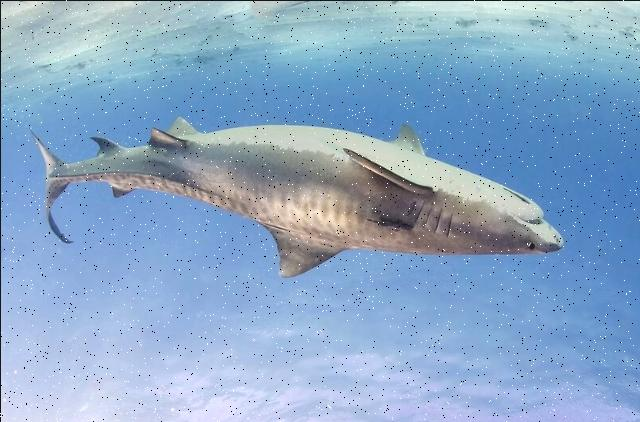Mulut: (504, 201, 554, 234)
Sirip Anal: (78, 124, 136, 204)
Sirip Dada: (340, 106, 442, 198)
Sirip Ekor: (20, 121, 78, 254)
Sirip Perut: (140, 106, 207, 154)
Sirip Punggung: (250, 218, 338, 286)
